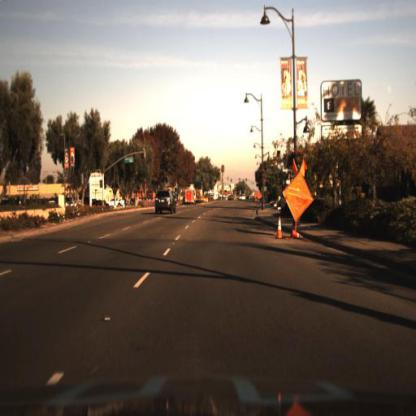car: (153, 186, 179, 217), (71, 192, 89, 213), (104, 196, 125, 210), (106, 197, 129, 209), (184, 191, 197, 207)
